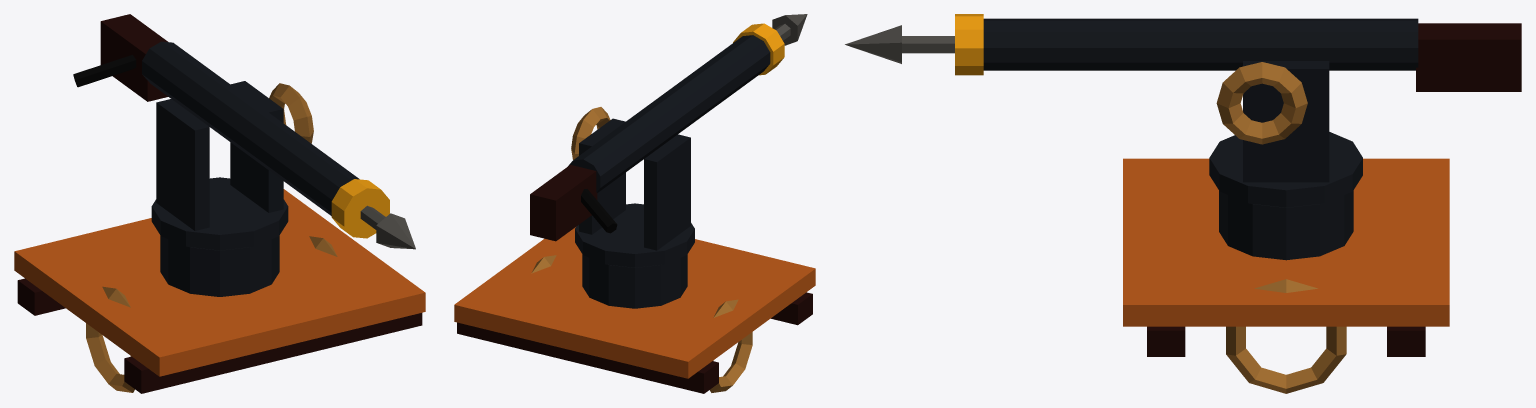
File: tb_upg_harpoon_turret.three-web-toon.glb
3 views of the same model, side by side, from view 1: azimuth 30°, elevation 25°; view 2: azimuth 150°, elevation 25°; view 3: azimuth 270°, elevation 25° (orthographic). The views are drawn at different scales.
Parts seen in each view (by area): view 1: tb_upg_harpoon_turret_mesh, harpoon_mount_mesh; view 2: tb_upg_harpoon_turret_mesh, harpoon_mount_mesh; view 3: tb_upg_harpoon_turret_mesh, harpoon_mount_mesh.
Boxes of the visible parts, x1,y1,x2,y2 form: tb_upg_harpoon_turret_mesh: (14, 189, 425, 393); harpoon_mount_mesh: (73, 14, 415, 250); tb_upg_harpoon_turret_mesh: (454, 227, 815, 393); harpoon_mount_mesh: (530, 14, 807, 267); tb_upg_harpoon_turret_mesh: (1123, 158, 1449, 393); harpoon_mount_mesh: (845, 14, 1521, 207).
Bounding box in the file's own units: 0.76 × 0.737 × 1.41.
